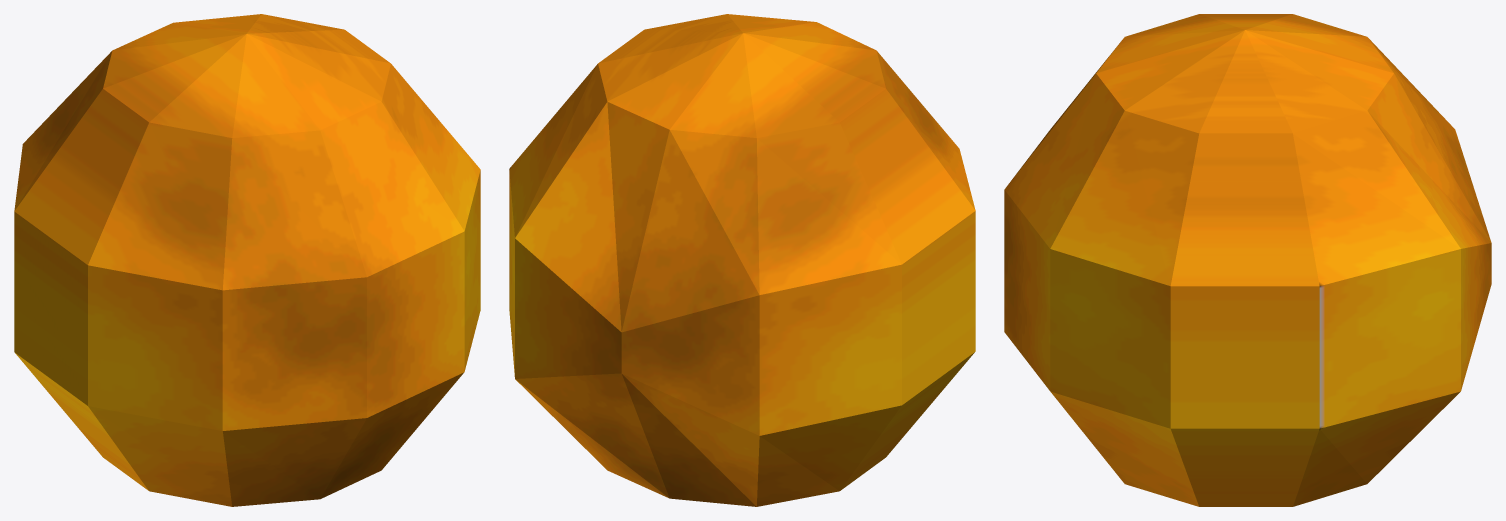
The model's file is Fireball.glb.
The picture shows the model from 3 angles, left to right: view 1: azimuth 30°, elevation 25°; view 2: azimuth 150°, elevation 25°; view 3: azimuth 270°, elevation 25°; orthographic projection.
Parts seen in each view (by area): view 1: Fireball; view 2: Fireball; view 3: Fireball.
Part boxes in pixels (x1,y1,x2,y2): Fireball: (14, 14, 480, 506); Fireball: (509, 14, 975, 506); Fireball: (1004, 14, 1491, 506).
Size of the model in its own units: 26.58 by 29.39 by 28.2.
1 material, 1 textured.
